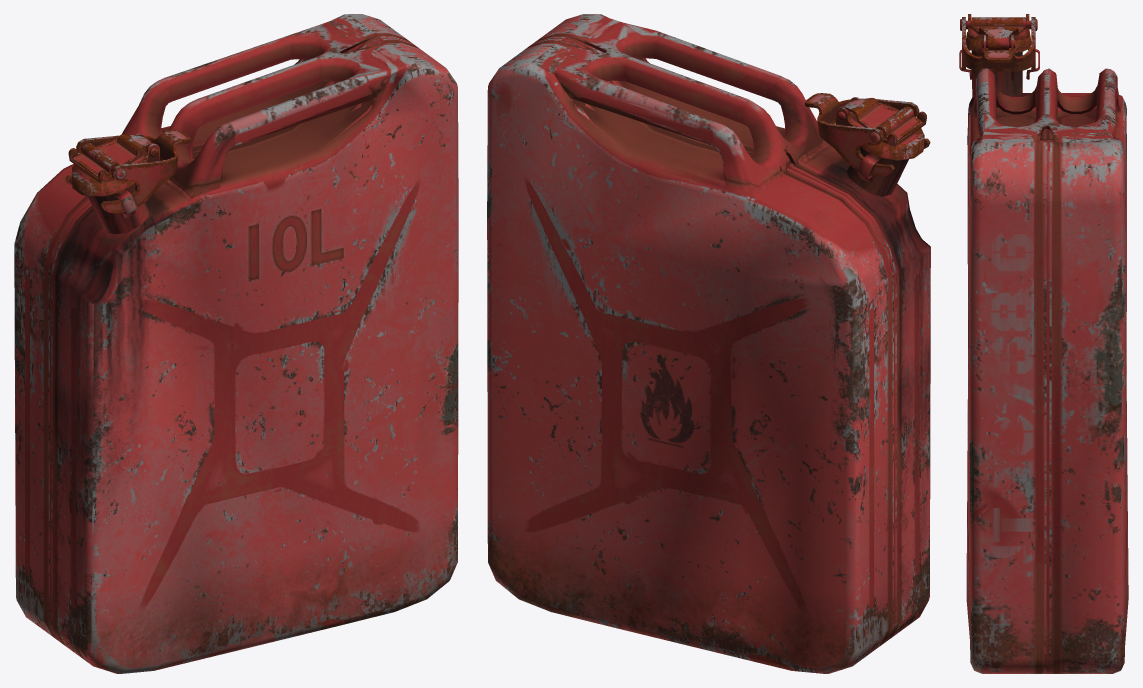
The model's file is jerrican.glb.
3 views of the same model, side by side, from view 1: azimuth 30°, elevation 25°; view 2: azimuth 150°, elevation 25°; view 3: azimuth 270°, elevation 25° (orthographic). The views are drawn at different scales.
Parts seen in each view (by area): view 1: Jerrican; view 2: Jerrican; view 3: Jerrican.
Boxes of the visible parts, <box> form: Jerrican: <box>14,14,458,673</box>; Jerrican: <box>487,14,930,673</box>; Jerrican: <box>959,14,1128,673</box>.
Size of the model in its own units: 0.3335 by 0.4644 by 0.1338.
Materials: 1 (1 with a texture image).
